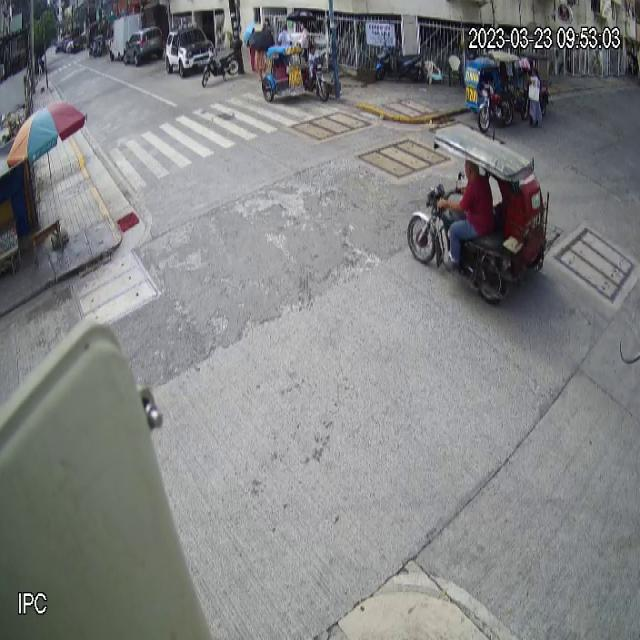Tricycle: (407, 123, 548, 307), (261, 30, 330, 103), (465, 50, 519, 134)
